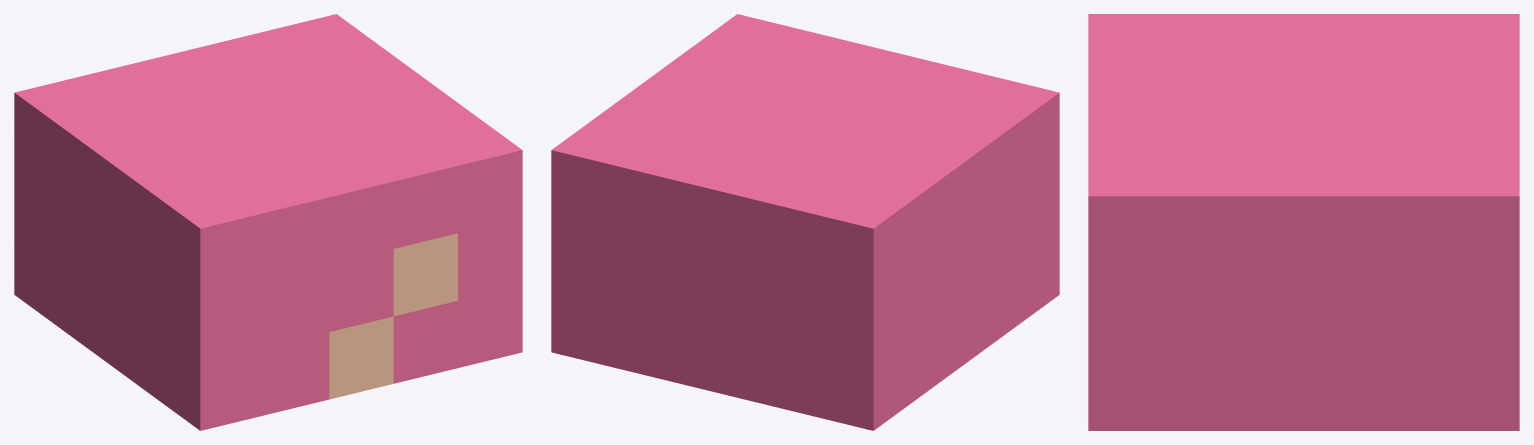
File: blob_c_walk_2.obj
3 renders of one model, left to right at view 1: azimuth 30°, elevation 25°; view 2: azimuth 150°, elevation 25°; view 3: azimuth 270°, elevation 25°, orthographic. The views are drawn at different scales.
Size of the model in its own units: 0.5 by 0.3 by 0.5.
1 material, 1 textured.
